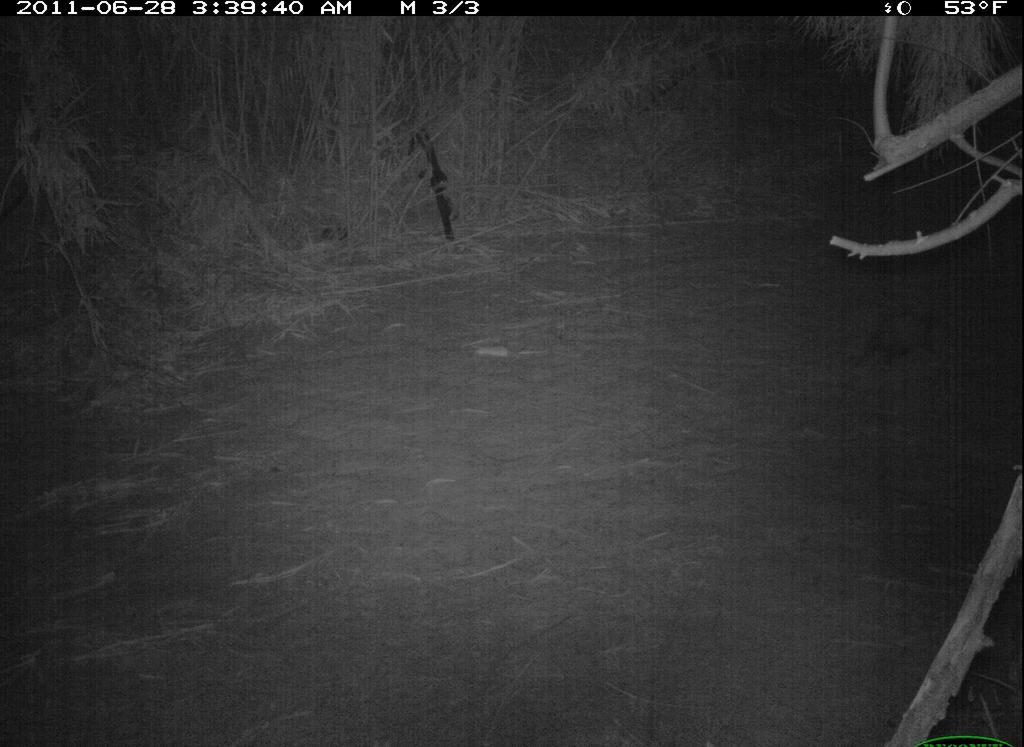opossum: (822, 296, 971, 392), (304, 213, 364, 258)
